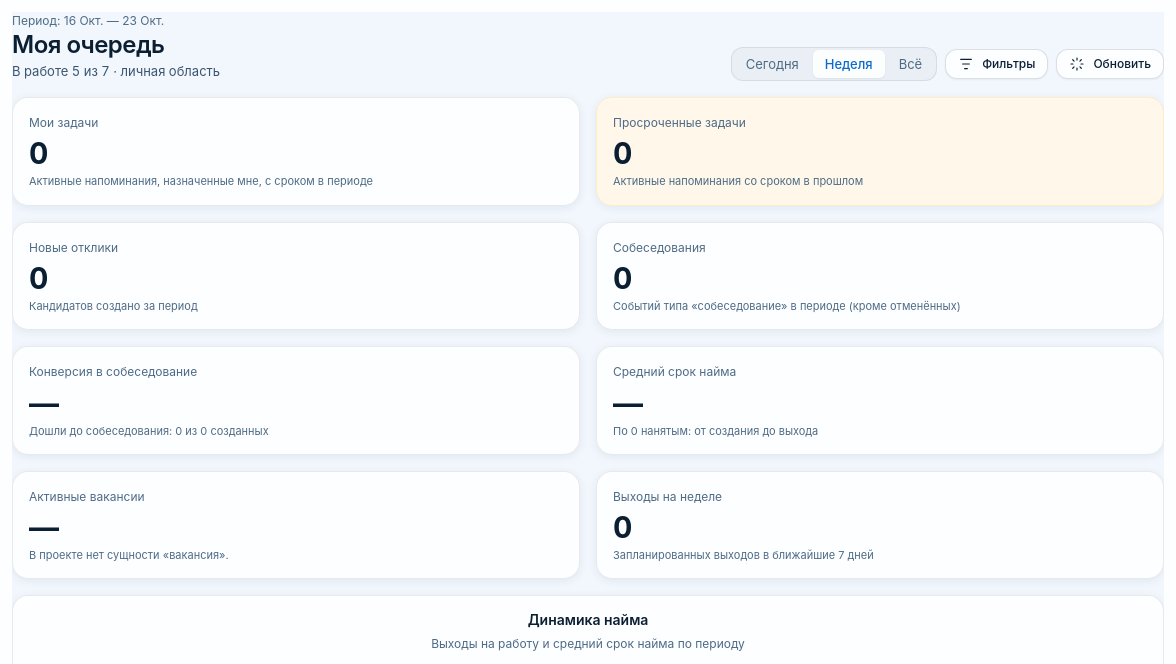
Test: MyQueuePage › снимает отметку устаревших данных после успешного повтора
expect the text "В работе 5 из 7 · личная область" is shown: met, box x1=12 y1=62 x2=220 y2=81
Click the button "Обновить" at (1110, 64), box x1=1056 y1=49 x2=1164 y2=79
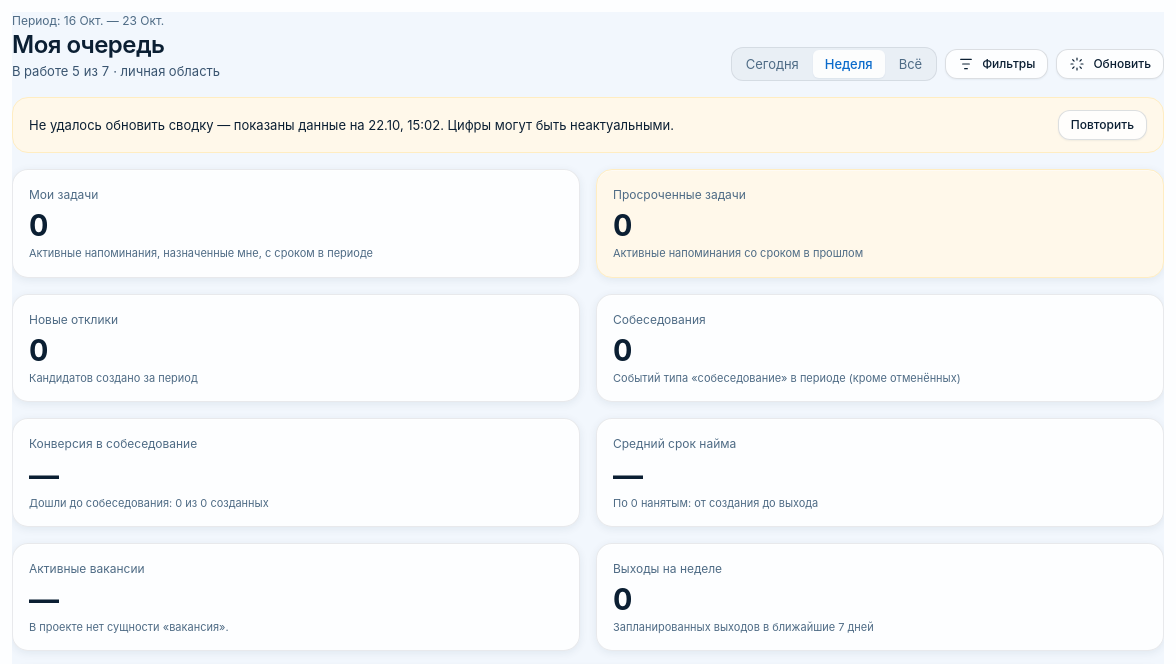
expect the text "Не удалось обновить сводку" is shown: met, box x1=29 y1=117 x2=365 y2=133
Click the button "Повторить" at (1102, 125), box x1=1058 y1=110 x2=1147 y2=140
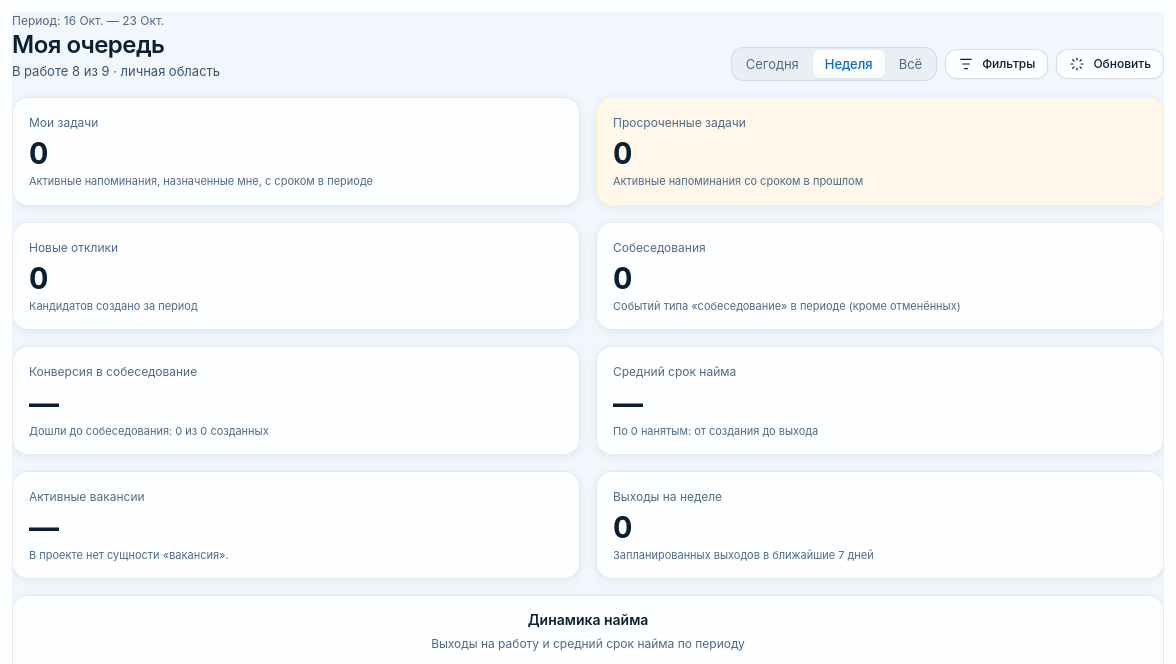
expect the text "Не удалось обновить сводку" is gone: met
expect the text "В работе 8 из 9 · личная область" is shown: met, box x1=12 y1=62 x2=220 y2=81
